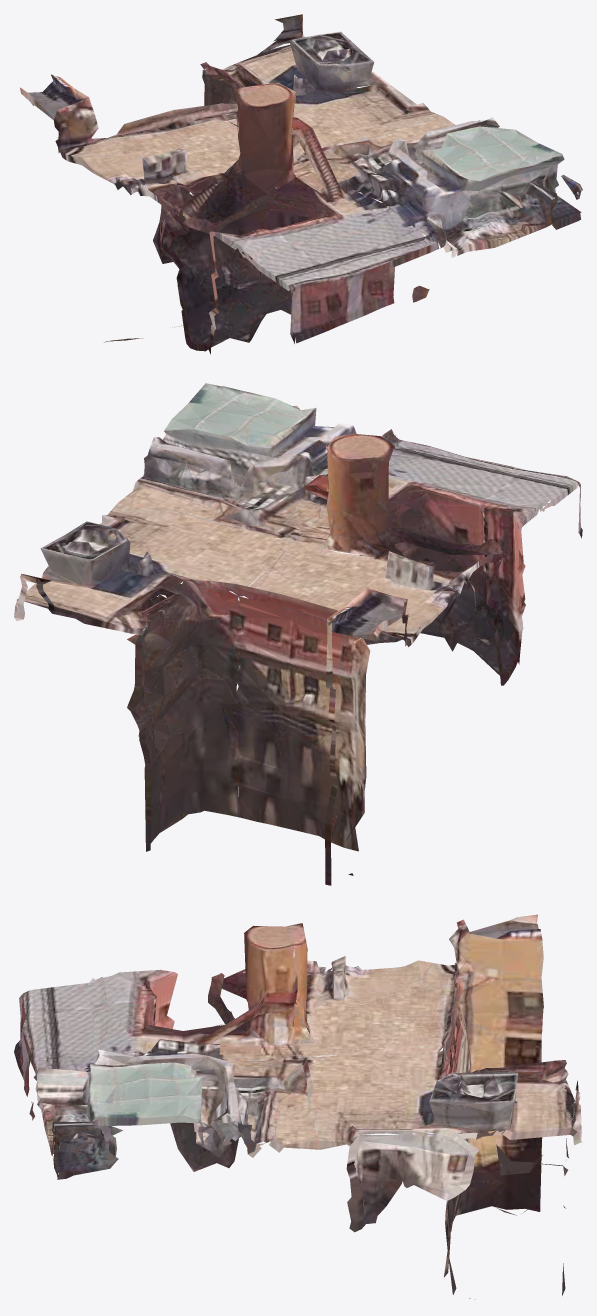
3 views of the same model, one above another, from view 1: azimuth 30°, elevation 25°; view 2: azimuth 150°, elevation 25°; view 3: azimuth 270°, elevation 25° (orthographic). The views are drawn at different scales.
Visible parts, largest first — view 1: Mesh_0; view 2: Mesh_0; view 3: Mesh_0.
Boxes of the visible parts, left/top/right/bottom form: Mesh_0: left=20, top=14, right=582, bottom=354; Mesh_0: left=14, top=383, right=582, bottom=885; Mesh_0: left=14, top=914, right=582, bottom=1299.
Bounding box in the file's own units: 33.94 × 26.22 × 41.27.
Materials: 2 (2 with a texture image).
